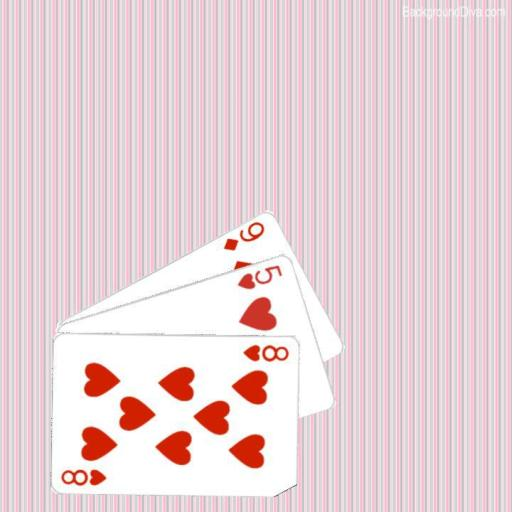5H: (234, 261, 284, 291)
8H: (240, 341, 291, 363), (58, 465, 108, 487)
9D: (221, 218, 267, 253)
